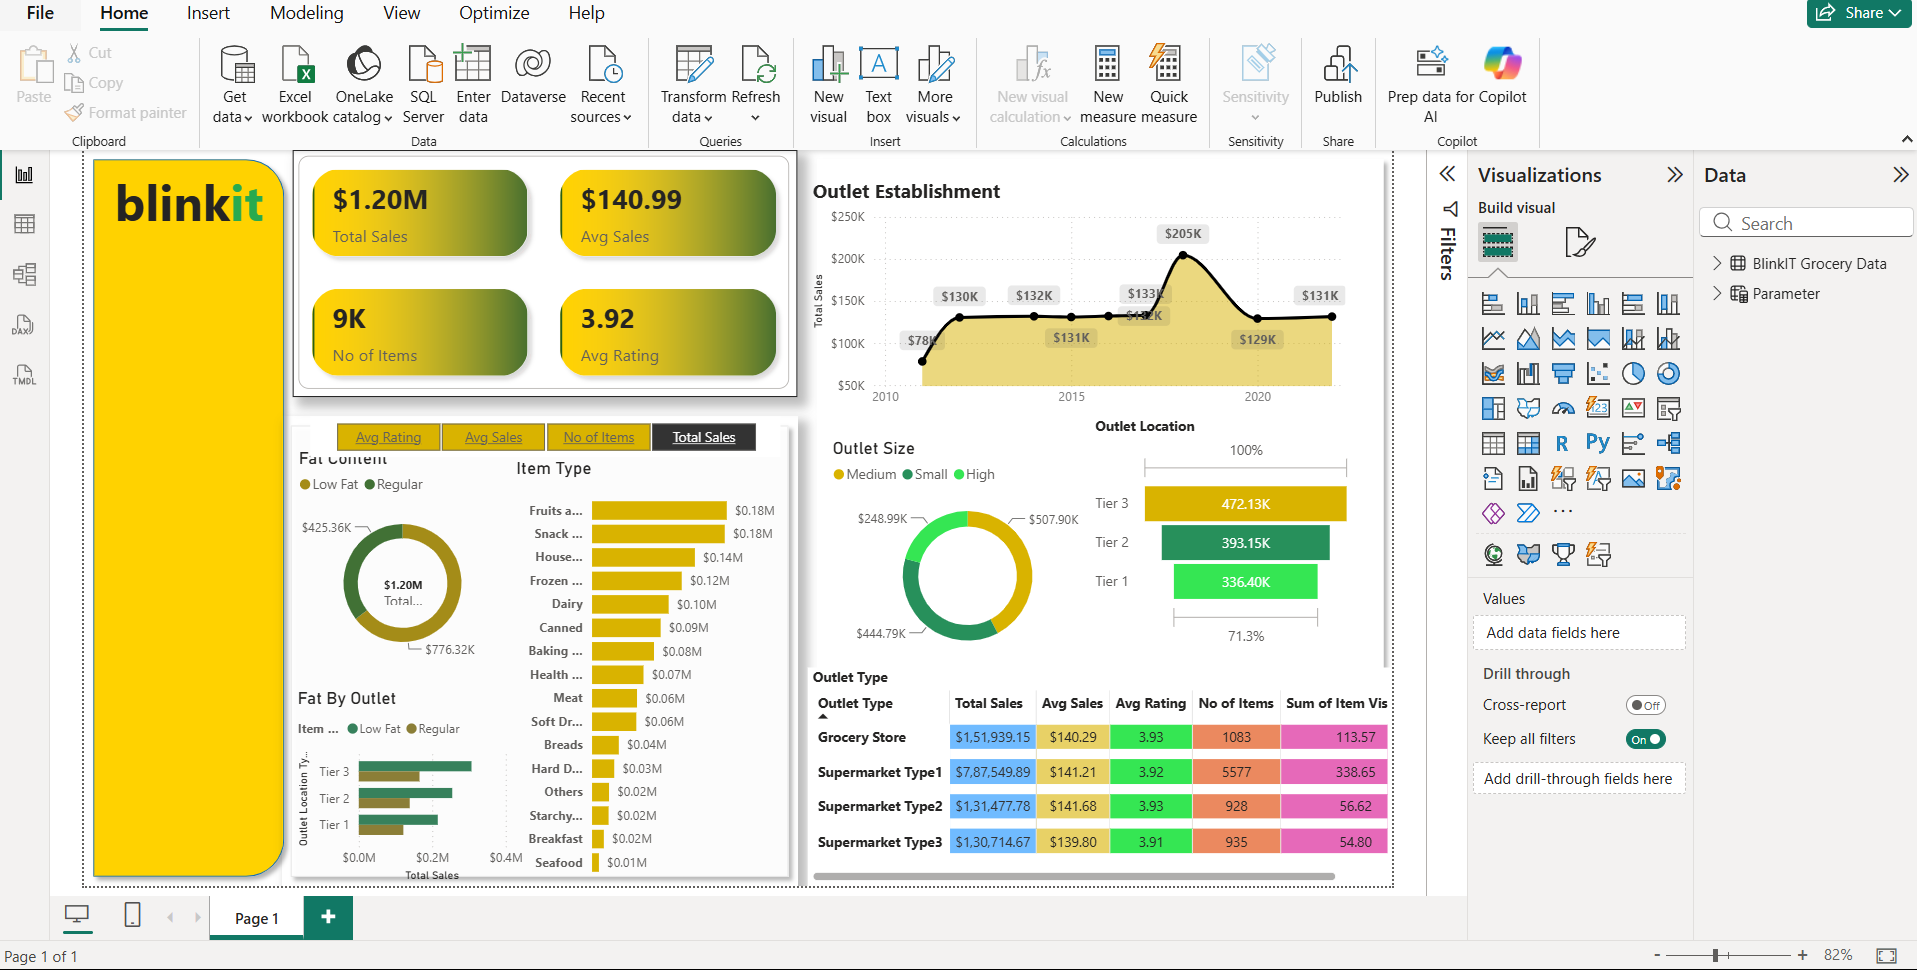

The page's visual inventory and layout, read from the dashboard file:
{"tool":"powerbi","page":{"name":"Page 1","canvas":[1280,720],"ordinal":0},"visuals":[{"type":"shape","box":[0,0,205,720],"z":0},{"type":"textbox","box":[12.3,12.3,181.1,78.2],"z":1000},{"type":"cardVisual","fields":{"Data":["BlinkIT Grocery Data.Total Sales","BlinkIT Grocery Data.Avg Sales","BlinkIT Grocery Data.No of Items","BlinkIT Grocery Data.Avg Rating"]},"box":[204.5,0,494,241.5],"z":2000},{"type":"donutChart","title":"Fat Content","fields":{"Category":["BlinkIT Grocery Data.Item Fat Content"],"Y":["BlinkIT Grocery Data.Avg Rating","BlinkIT Grocery Data.Avg Sales","BlinkIT Grocery Data.No of Items","BlinkIT Grocery Data.Total Sales"]},"box":[204.2,278.8,212.8,231.1],"z":4000},{"type":"cardVisual","fields":{"Data":["BlinkIT Grocery Data.Total Sales"]},"box":[272.7,386.4,77,51.4],"z":6000},{"type":"clusteredBarChart","title":"Fat By Outlet","fields":{"Category":["BlinkIT Grocery Data.Outlet Location Type"],"Series":["BlinkIT Grocery Data.Item Fat Content"],"Y":["BlinkIT Grocery Data.Avg Rating"]},"box":[204.2,525.8,212.8,194.4],"z":7000},{"type":"barChart","title":"Item Type","fields":{"Category":["BlinkIT Grocery Data.Item Type"],"Y":["BlinkIT Grocery Data.Avg Rating","BlinkIT Grocery Data.Avg Sales","BlinkIT Grocery Data.No of Items","BlinkIT Grocery Data.Total Sales"]},"box":[418.2,278.8,264.1,441.4],"z":8000},{"type":"lineChart","title":"Outlet Establishment ","fields":{"Category":["BlinkIT Grocery Data.Outlet Establishment Year"],"Y":["BlinkIT Grocery Data.Total Sales"]},"box":[708,0,561.3,242.1],"z":10000},{"type":"donutChart","title":"Outlet Size","fields":{"Category":["BlinkIT Grocery Data.Outlet Size"],"Y":["BlinkIT Grocery Data.Avg Rating","BlinkIT Grocery Data.Avg Sales","BlinkIT Grocery Data.No of Items","BlinkIT Grocery Data.Total Sales"]},"box":[698.2,260.5,276.4,225],"z":11000},{"type":"funnel","title":"Outlet Location","fields":{"Category":["BlinkIT Grocery Data.Outlet Location Type"],"Y":["Sum(BlinkIT Grocery Data.Sales)"]},"box":[1007.6,260.5,272.7,225],"z":12000},{"type":"pivotTable","title":"Outlet Type","fields":{"Rows":["BlinkIT Grocery Data.Outlet Type"],"Values":["BlinkIT Grocery Data.Total Sales","BlinkIT Grocery Data.Avg Sales","BlinkIT Grocery Data.Avg Rating","BlinkIT Grocery Data.No of Items","Sum(BlinkIT Grocery Data.Item Visibility)"]},"box":[708,509.9,572.3,210.3],"z":13000}]}

Visuals, with their boxes on the page's 1280x720 design canvas (x1, y1, x2, y2). These are canvas units, not pixel positions in the 1917x970 screenshot, which may show the page scaled, cropped or inside an application window:
shape: [0,0,205,720]
textbox: [12,12,193,90]
cardVisual - BlinkIT Grocery Data.Total Sales x BlinkIT Grocery Data.Avg Sales: [204,0,698,242]
"Fat Content" donutChart: [204,279,417,510]
cardVisual - BlinkIT Grocery Data.Total Sales: [273,386,350,438]
"Fat By Outlet" clusteredBarChart: [204,526,417,720]
"Item Type" barChart: [418,279,682,720]
"Outlet Establishment " lineChart: [708,0,1269,242]
"Outlet Size" donutChart: [698,260,975,486]
"Outlet Location" funnel: [1008,260,1280,486]
"Outlet Type" pivotTable: [708,510,1280,720]
